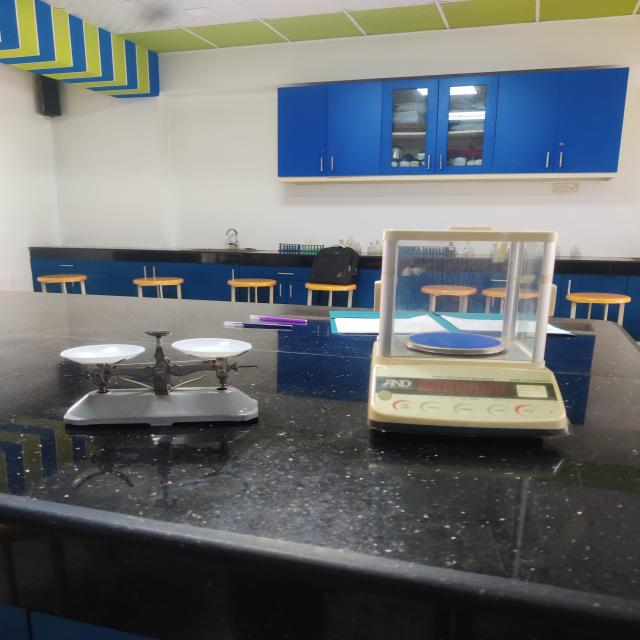Mechanical_Balance_Scale: (48, 315, 272, 435)
Precision_Weight_Scale: (361, 214, 586, 453)
